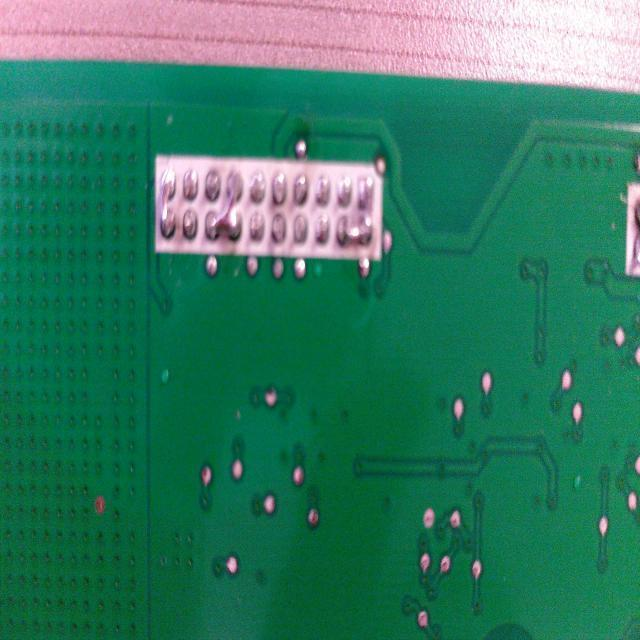Soldering shorted: (336, 175, 376, 261), (206, 170, 242, 244), (158, 165, 178, 242)
